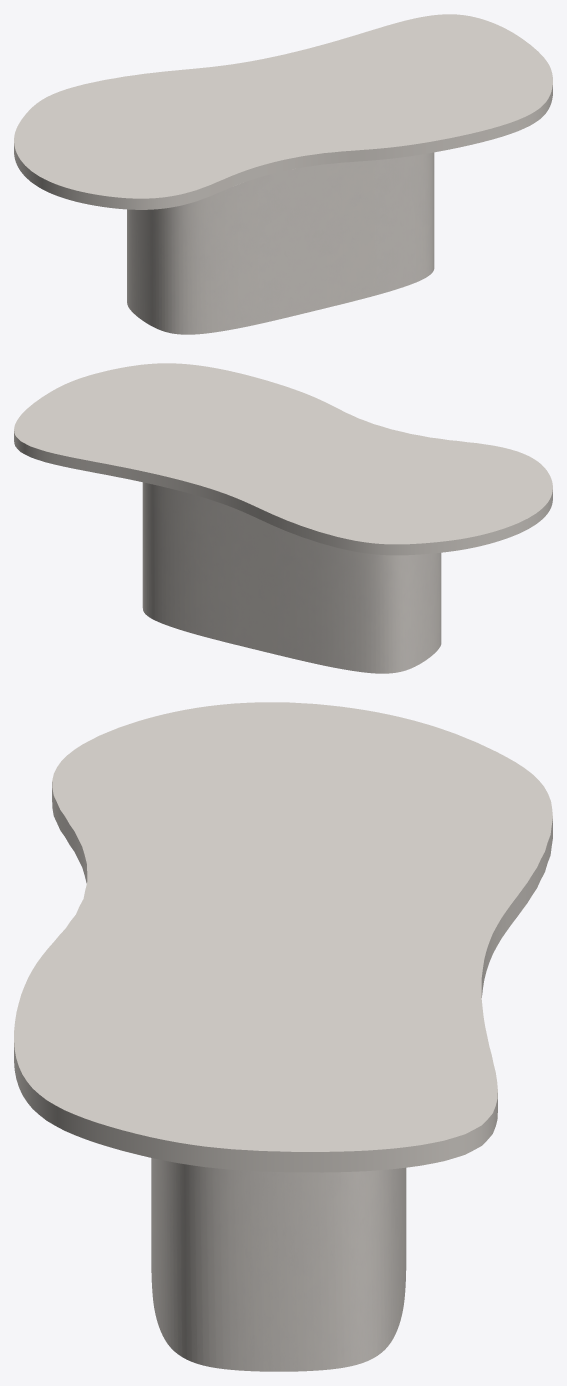
The model's file is pearlwhite_wave_standard_fixed.glb.
3 renders of one model, top to bottom at view 1: azimuth 30°, elevation 25°; view 2: azimuth 150°, elevation 25°; view 3: azimuth 270°, elevation 25°, orthographic. The views are drawn at different scales.
Parts seen in each view (by area): view 1: standard_wave, fixed; view 2: standard_wave, fixed; view 3: standard_wave, fixed.
Boxes of the visible parts, x1=… form: standard_wave: x1=14, y1=14, x2=552, y2=209; fixed: x1=127, y1=152, x2=434, y2=334; standard_wave: x1=14, y1=363, x2=552, y2=555; fixed: x1=142, y1=482, x2=441, y2=673; standard_wave: x1=14, y1=702, x2=552, y2=1172; fixed: x1=151, y1=1158, x2=406, y2=1371.
Size of the model in its own units: 7.5 by 2.5 by 3.8.
Materials: 1 (1 with a texture image).
